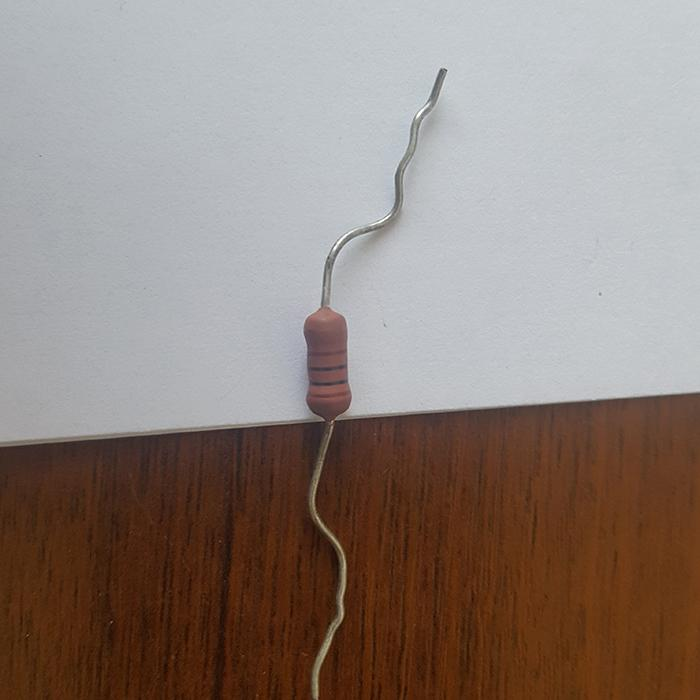resistor: (303, 304, 350, 420)
